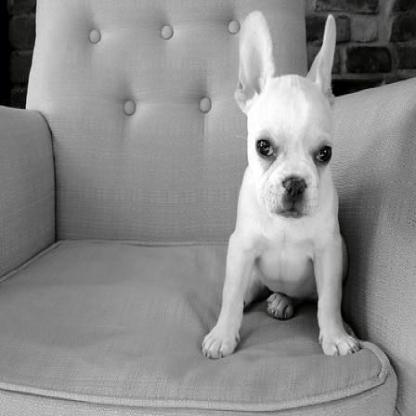French_bulldog: (198, 5, 362, 361)
